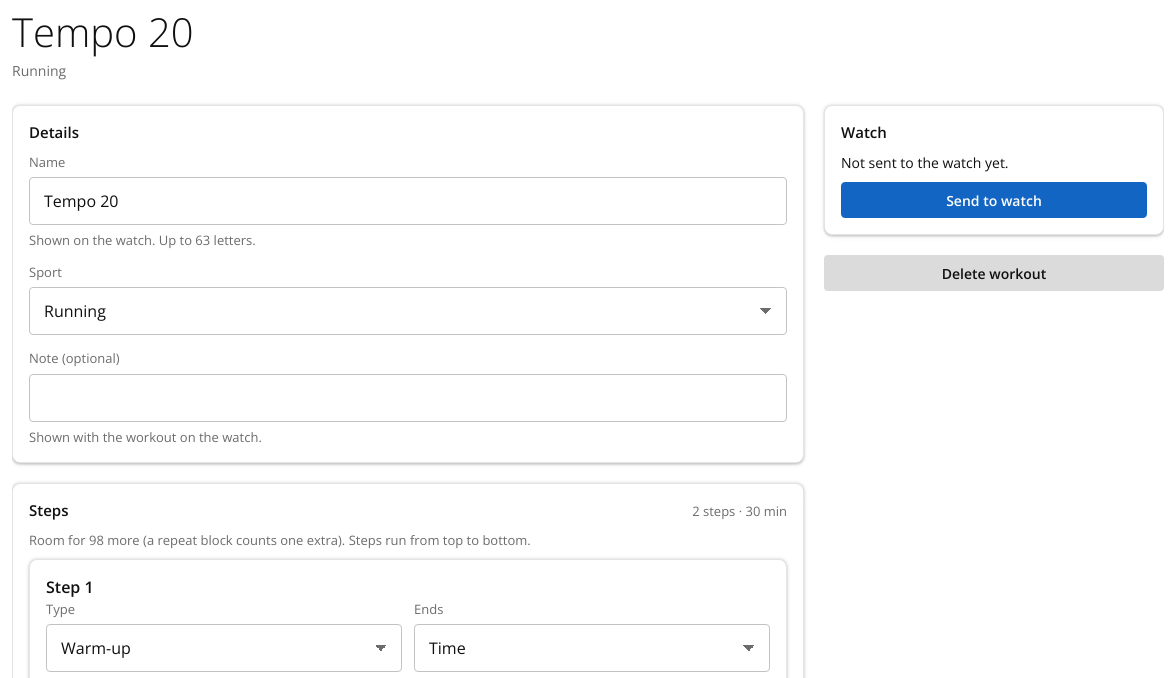
a saved workout › sends it to the watch, shows it waiting for the phone, and takes it back
Check: the text "Not sent to the watch yet." is shown, box [841,153,1009,172]
Click the button "Send to watch": (994, 200) [841,182,1147,218]
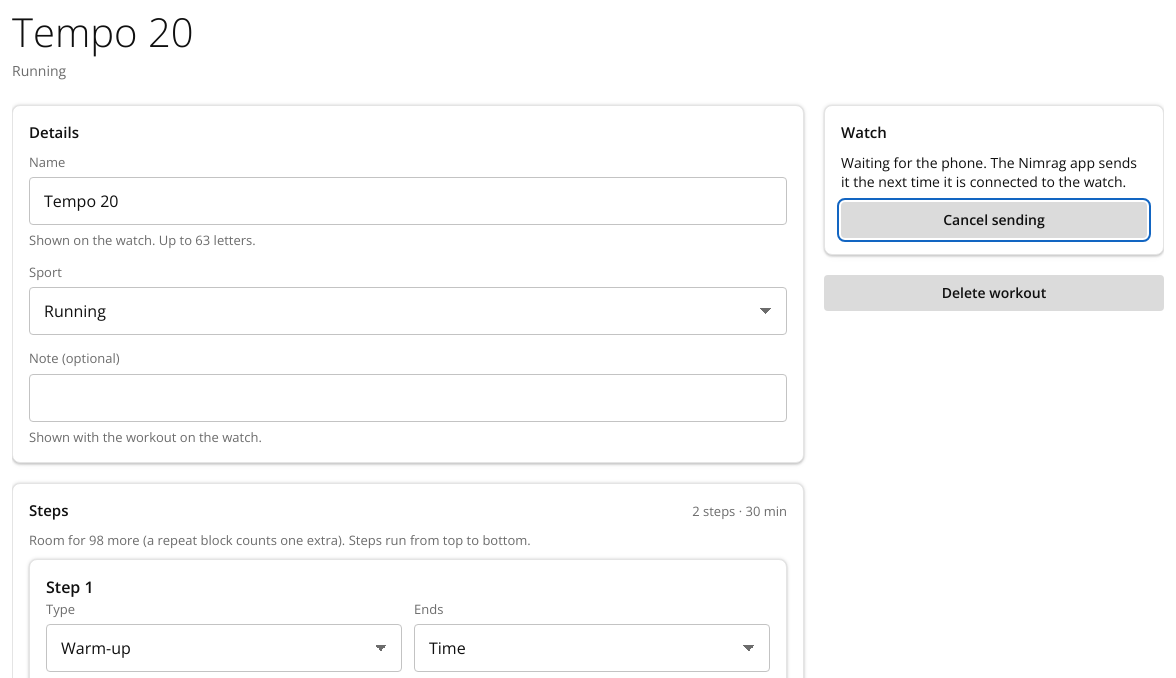
Check: the text "Waiting for the phone" is shown, box [841,153,1137,191]
Click the button "Cancel sending": (994, 220) [841,202,1147,238]
(page scrolled)
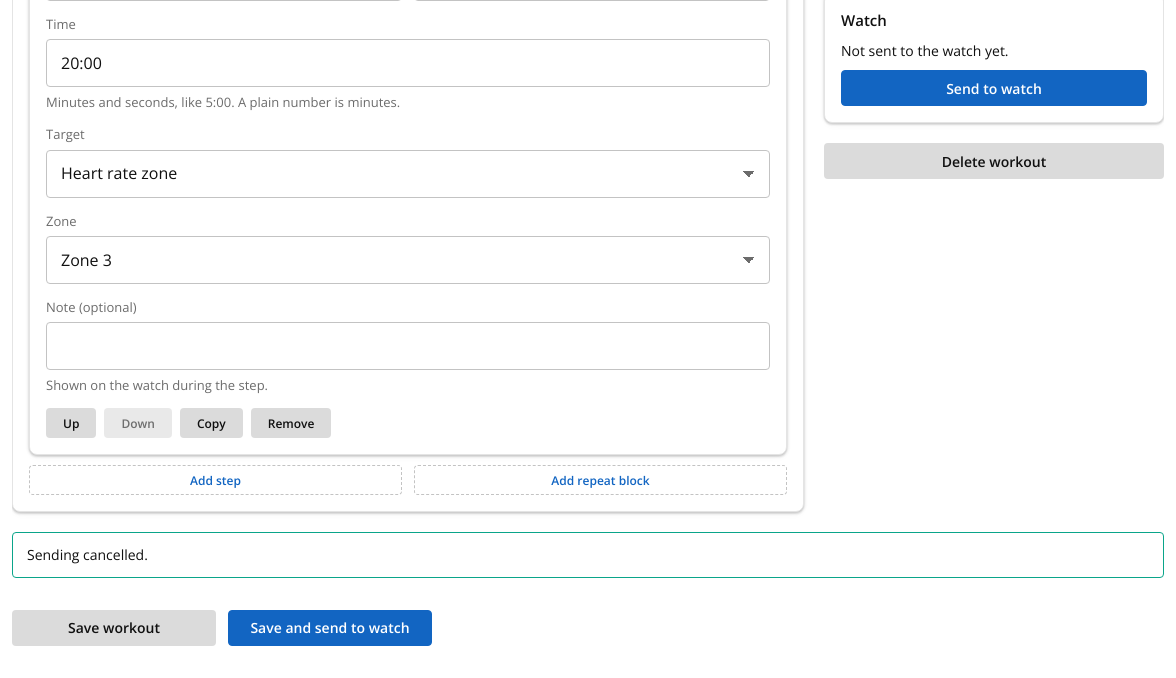
Check: the text "Not sent to the watch yet." is shown, box [841,41,1009,60]
Check: the text "Sending cancelled." is shown, box [12,532,1164,578]
